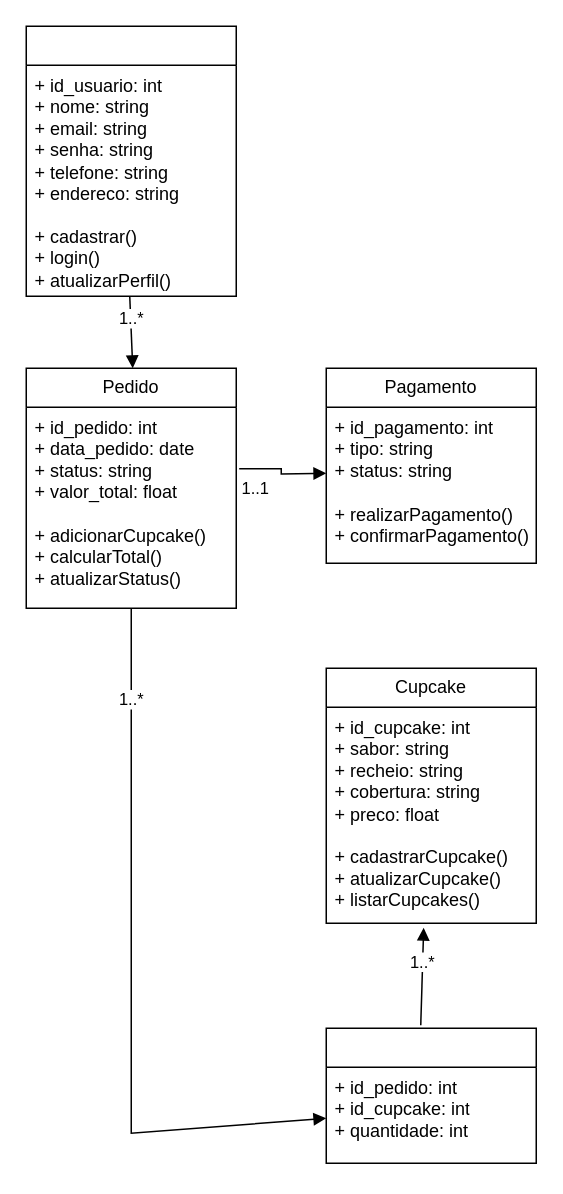
Some shapes in this 563 by 1194 pixel diagram are drawn without their labels. Each missing label, with the box of its shape:
PedidoCupcake: (325, 1027, 536, 1163)
Usuário: (25, 25, 236, 296)
